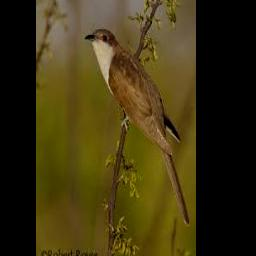Cuckoo: (84, 28, 189, 227)
